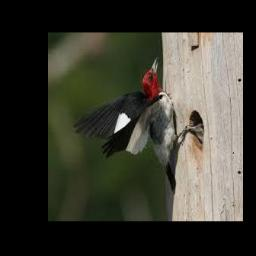Woodpecker: (75, 58, 203, 193)
